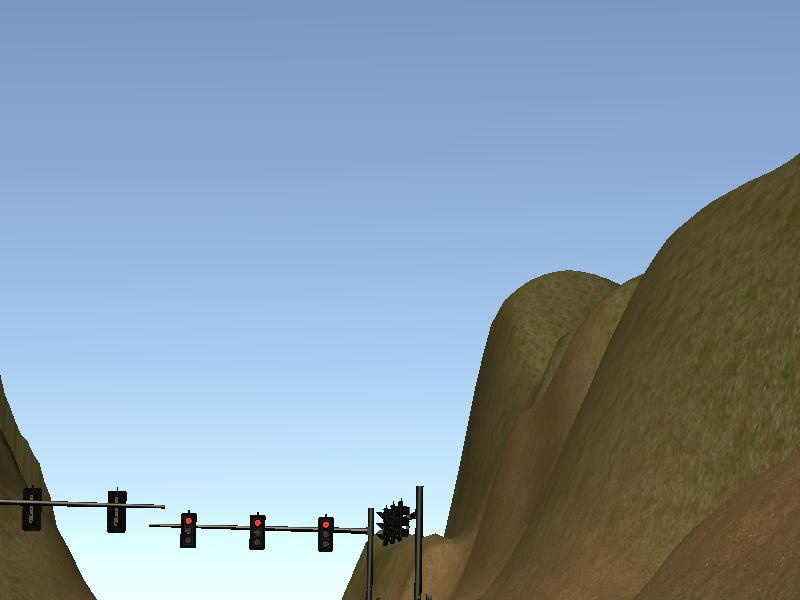Red: (177, 508, 199, 551), (248, 512, 268, 552), (316, 513, 335, 555)
